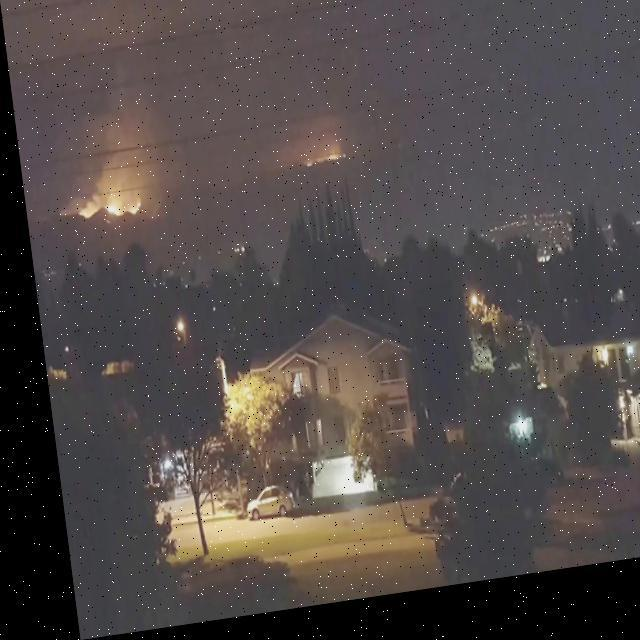Fire: (75, 194, 138, 226), (300, 157, 336, 175)
